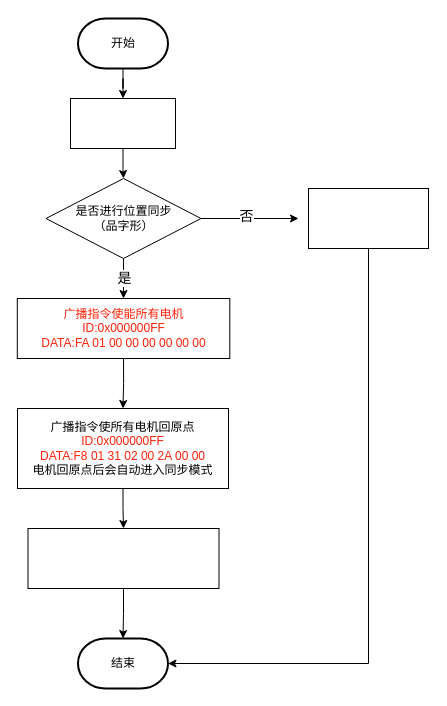
Some shapes in this 447 by 706 pixel diagram are drawn without their labels. Each missing label, with the box of its shape:
按正常控制即可: (308, 188, 428, 248)
此时只需要控制1号电机转速即可 其余电机会自动跟1号电机同步: (27, 528, 219, 588)
系统上电: (70, 98, 176, 148)
